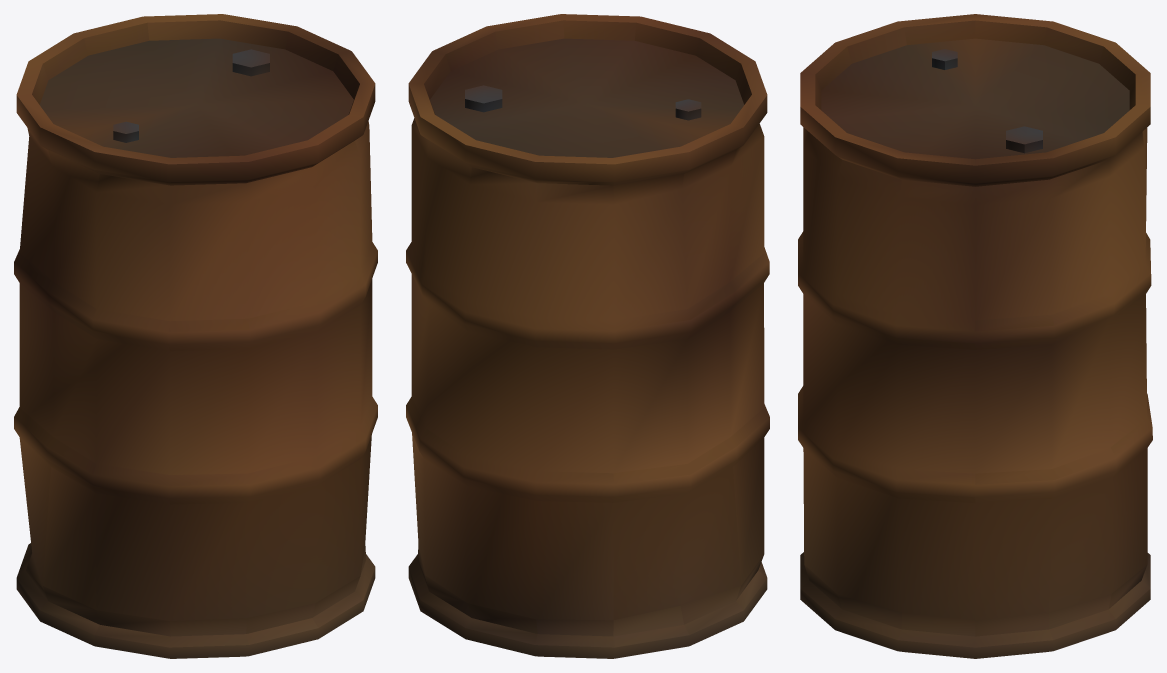
Rendered from barrel.glb.
3 views of the same model, side by side, from view 1: azimuth 30°, elevation 25°; view 2: azimuth 150°, elevation 25°; view 3: azimuth 270°, elevation 25° (orthographic).
Visible parts, largest first — view 1: Barrel; view 2: Barrel; view 3: Barrel.
Boxes of the visible parts, <box> form: Barrel: <box>14,14,377,658</box>; Barrel: <box>406,14,769,658</box>; Barrel: <box>798,14,1152,658</box>.
Size of the model in its own units: 0.586 by 0.9 by 0.5791.
